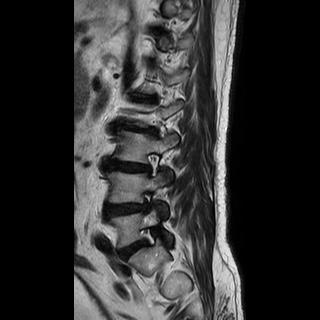LFS0: (140, 147, 166, 180)
LFS1: (135, 222, 157, 251)
